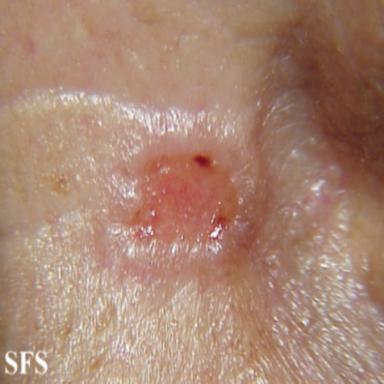basal-cell-carcinoma: (91, 114, 263, 292)
